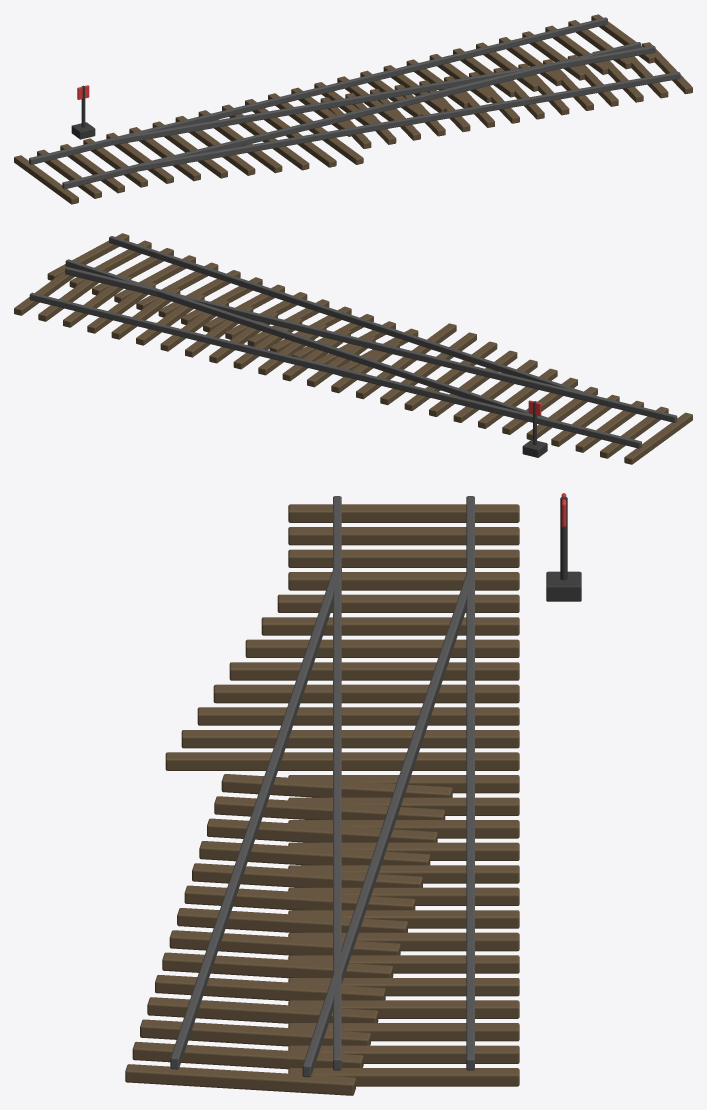
The model's file is Turnout_Mesh.fbx.
The picture shows the model from 3 angles, top to bottom: view 1: azimuth 30°, elevation 25°; view 2: azimuth 150°, elevation 25°; view 3: azimuth 270°, elevation 25°; orthographic projection. The views are drawn at different scales.
Parts seen in each view (by area): view 1: Rail_Main_L, Rail_Branch_R, Rail_Branch_L, Rail_Main_R, Tie_Switch_12, Tie_Main_1, Tie_Switch_11, Tie_Switch_10, Tie_Switch_9, Tie_Switch_8, Tie_Switch_7, Tie_Switch_6 (+33 smaller); view 2: Rail_Main_L, Rail_Main_R, Rail_Branch_R, Rail_Branch_L, Tie_Switch_12, Tie_Switch_11, Tie_Main_1, Tie_Switch_10, Tie_Switch_9, Tie_Switch_8, Tie_Switch_7, Tie_Main_3 (+32 smaller); view 3: Rail_Branch_R, Rail_Branch_L, Tie_Switch_12, Tie_Switch_11, Tie_Switch_10, Tie_Switch_9, Rail_Main_L, Rail_Main_R, Tie_Switch_8, Tie_Switch_7, Tie_Branch_14, Tie_Switch_6 (+33 smaller).
Boxes of the visible parts, left/top/right/bottom form: Rail_Main_L: left=29, top=17, right=607, bottom=164; Rail_Branch_R: left=136, top=72, right=680, bottom=171; Rail_Branch_L: left=111, top=45, right=655, bottom=145; Rail_Main_R: left=62, top=42, right=641, bottom=189; Tie_Switch_12: left=268, top=93, right=363, bottom=164; Tie_Main_1: left=14, top=155, right=78, bottom=204; Tie_Switch_11: left=245, top=99, right=336, bottom=167; Tie_Switch_10: left=222, top=104, right=309, bottom=170; Tie_Switch_9: left=198, top=110, right=282, bottom=173; Tie_Switch_8: left=175, top=116, right=255, bottom=175; Tie_Switch_7: left=152, top=121, right=227, bottom=178; Tie_Switch_6: left=129, top=127, right=200, bottom=181; Rail_Main_L: left=29, top=292, right=641, bottom=448; Rail_Main_R: left=65, top=267, right=677, bottom=422; Rail_Branch_R: left=109, top=236, right=597, bottom=404; Rail_Branch_L: left=65, top=259, right=555, bottom=420; Tie_Switch_12: left=356, top=323, right=456, bottom=399; Tie_Switch_11: left=380, top=332, right=476, bottom=405; Tie_Main_1: left=624, top=412, right=692, bottom=464; Tie_Switch_10: left=404, top=341, right=497, bottom=410; Tie_Switch_9: left=429, top=350, right=517, bottom=416; Tie_Switch_8: left=453, top=359, right=537, bottom=422; Tie_Switch_7: left=478, top=368, right=557, bottom=428; Tie_Main_3: left=575, top=400, right=643, bottom=452; Rail_Branch_R: left=170, top=567, right=341, bottom=1069; Rail_Branch_L: left=302, top=575, right=471, bottom=1077; Tie_Switch_12: left=165, top=752, right=519, bottom=770; Tie_Switch_11: left=181, top=730, right=519, bottom=748; Tie_Switch_10: left=197, top=707, right=519, bottom=725; Tie_Switch_9: left=213, top=684, right=519, bottom=703; Rail_Main_L: left=466, top=496, right=474, bottom=1070; Rail_Main_R: left=333, top=496, right=341, bottom=1070; Tie_Switch_8: left=229, top=662, right=519, bottom=680; Tie_Switch_7: left=245, top=639, right=519, bottom=657; Tie_Branch_14: left=125, top=1064, right=355, bottom=1095; Tie_Switch_6: left=261, top=617, right=519, bottom=635.
Size of the model in its own units: 15.45 by 5.14 by 1.2.
